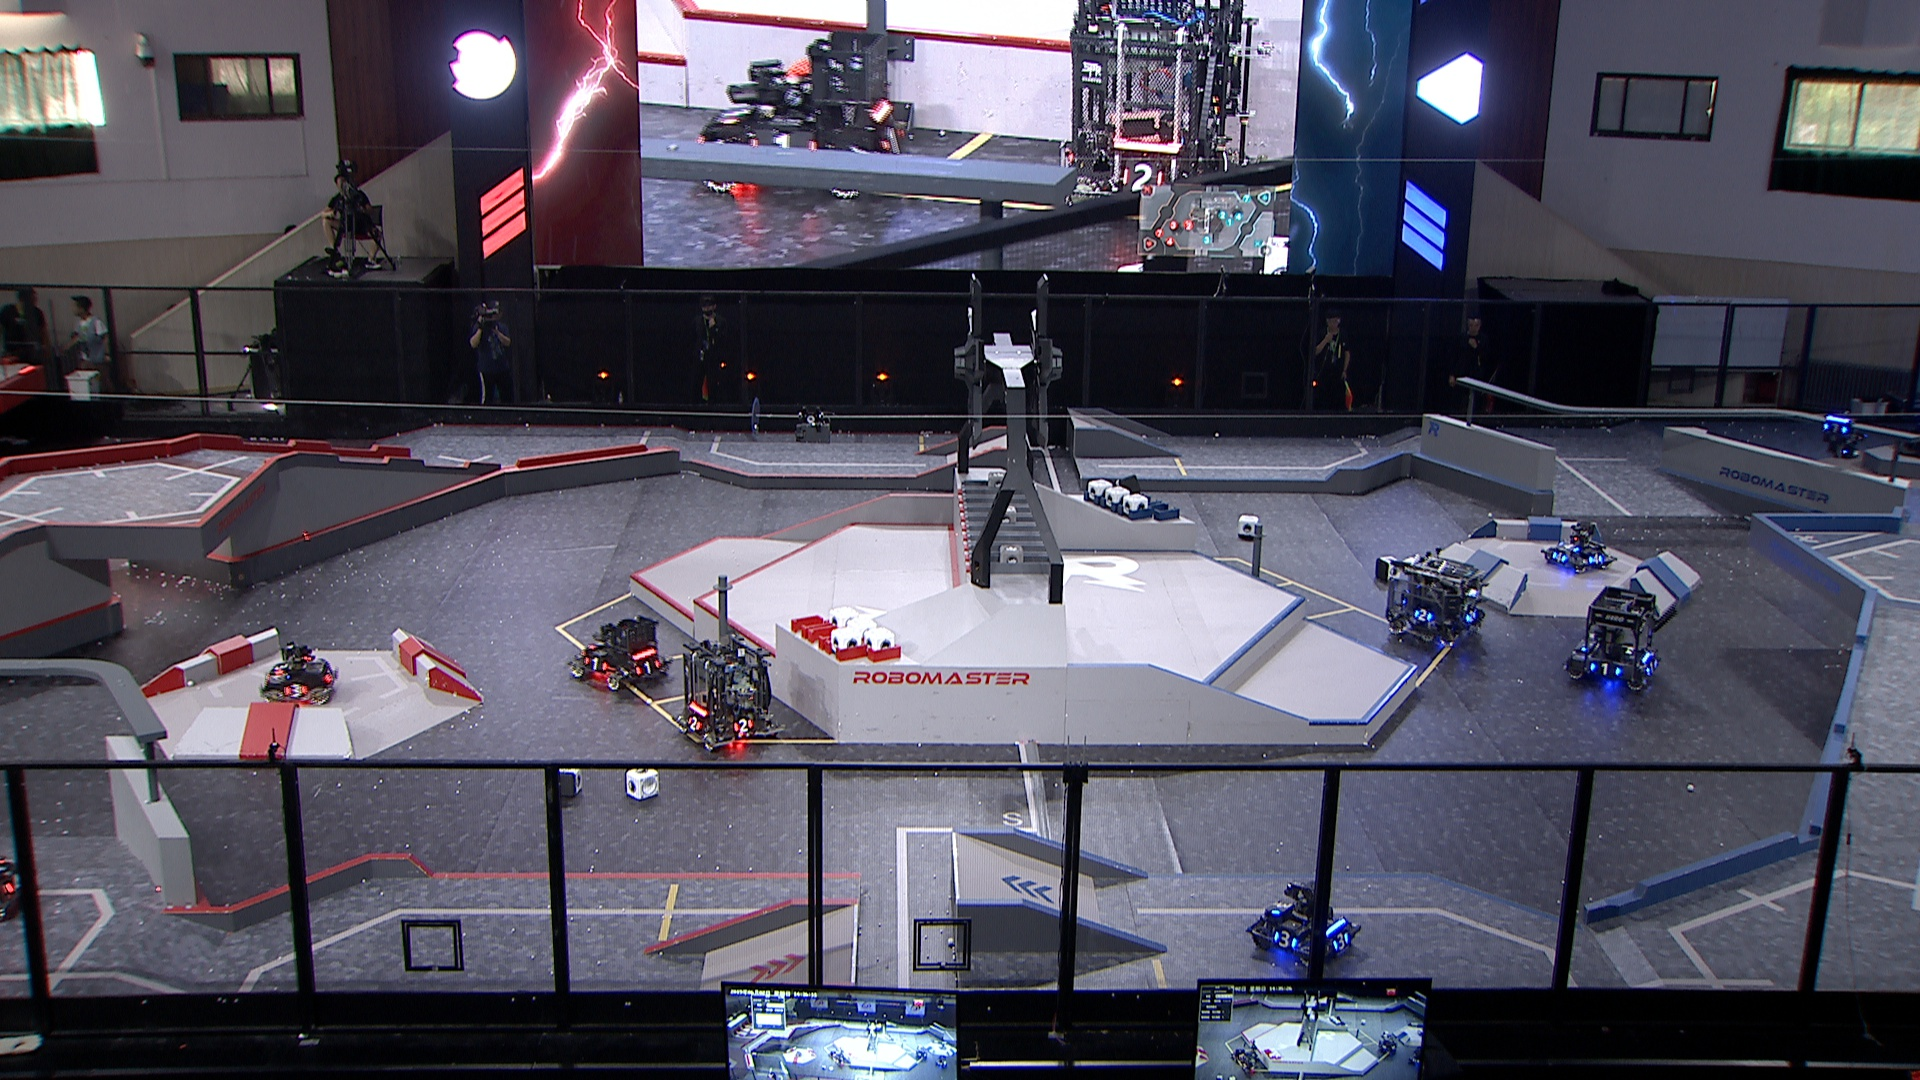armor: (582, 651, 608, 676), (1273, 926, 1299, 951), (1589, 659, 1625, 678), (633, 655, 662, 678), (278, 680, 309, 700), (3, 869, 26, 894), (1267, 895, 1294, 916), (1822, 419, 1851, 436), (1333, 927, 1352, 953), (731, 717, 756, 735), (320, 666, 338, 688), (1411, 607, 1433, 624), (585, 636, 609, 651), (269, 659, 290, 676), (1644, 655, 1662, 676), (1551, 547, 1571, 564), (1557, 541, 1580, 555), (684, 713, 703, 731), (1460, 607, 1480, 622), (1588, 550, 1605, 567)
car: (669, 632, 785, 750), (1238, 880, 1364, 972), (1563, 583, 1662, 695), (1385, 545, 1487, 647), (562, 609, 674, 694), (261, 637, 338, 707), (1539, 517, 1621, 575)
ignore: (692, 25, 905, 196), (1237, 1048, 1262, 1077), (1377, 1029, 1400, 1058), (932, 1054, 951, 1071), (913, 1046, 930, 1062)
watcher: (1817, 404, 1865, 462)
